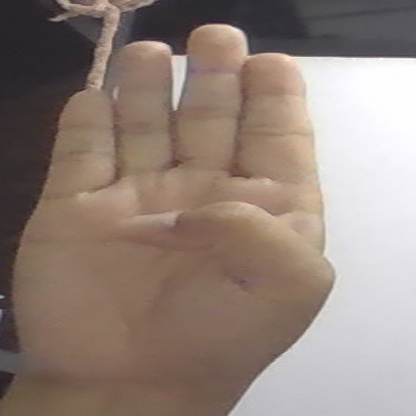B: (13, 22, 333, 399)
